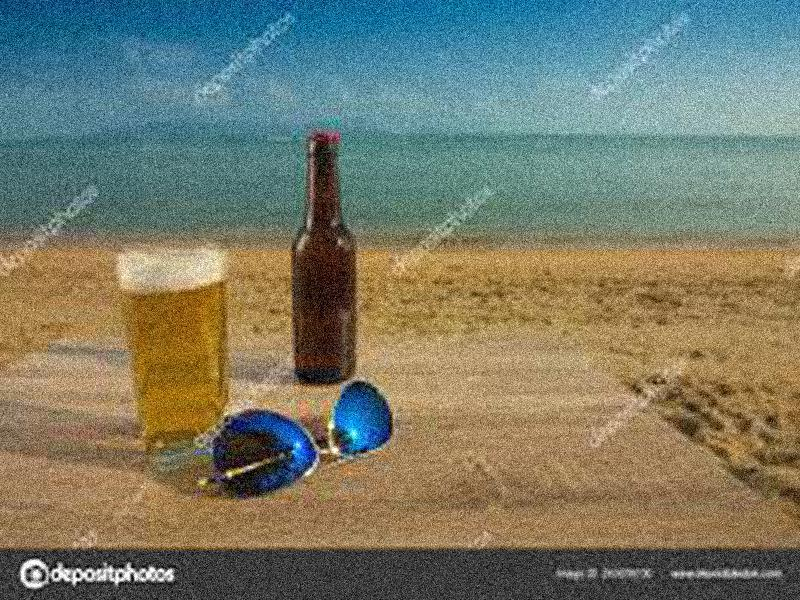Beer: (292, 131, 356, 381)
